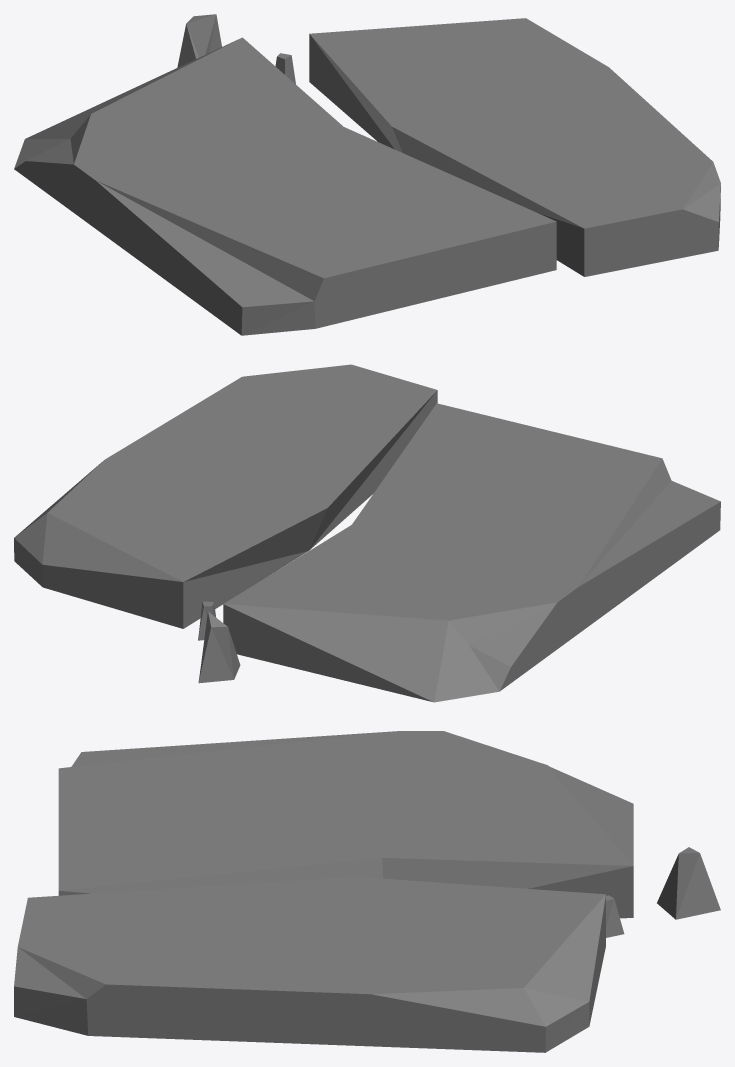
File: Tile_04.FBX
3 renders of one model, top to bottom at view 1: azimuth 30°, elevation 25°; view 2: azimuth 150°, elevation 25°; view 3: azimuth 270°, elevation 25°, orthographic. The views are drawn at different scales.
Visible parts, largest first — view 1: Tile_04; view 2: Tile_04; view 3: Tile_04.
Boxes of the visible parts, bbox=[...] form: Tile_04: bbox=[14, 14, 720, 335]; Tile_04: bbox=[14, 364, 720, 702]; Tile_04: bbox=[14, 731, 720, 1052].
Size of the model in its own units: 1.66 by 0.1784 by 1.84.
